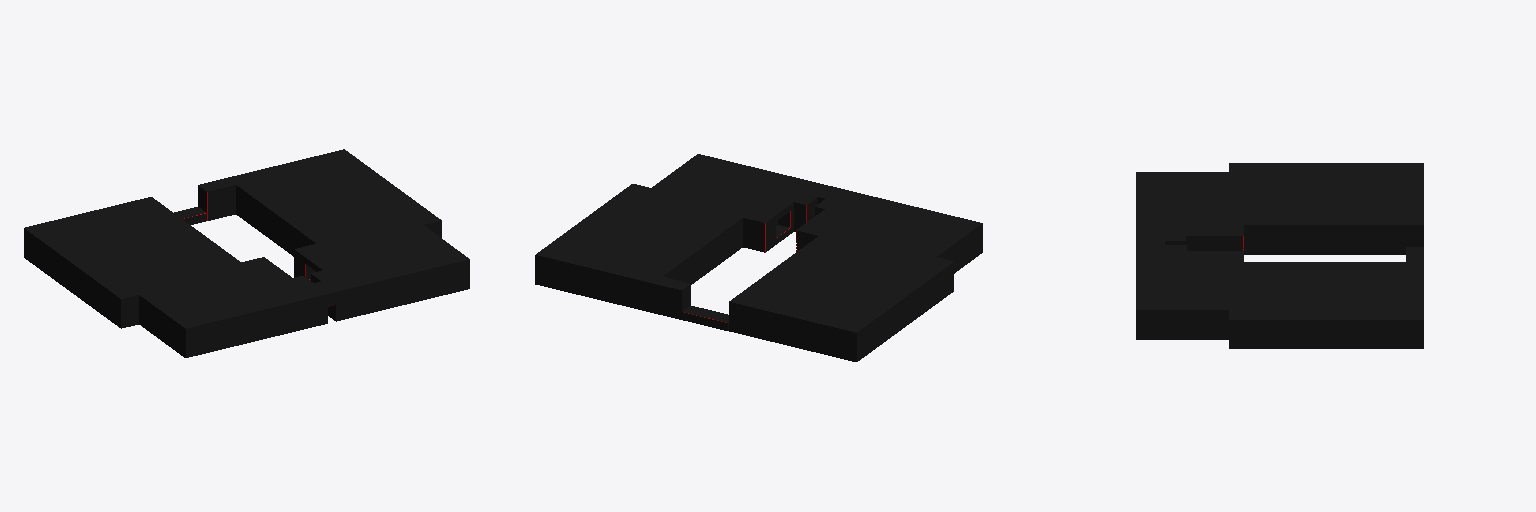
Rendered from wall.obj.
The picture shows the model from 3 angles: view 1: azimuth 30°, elevation 25°; view 2: azimuth 150°, elevation 25°; view 3: azimuth 270°, elevation 25°; orthographic projection.
Parts seen in each view (by area): view 1: Cube.007_Cube.006; view 2: Cube.007_Cube.006; view 3: Cube.007_Cube.006.
Part boxes in pixels (x1,y1,x2,y2): Cube.007_Cube.006: (24,149,469,357); Cube.007_Cube.006: (535,154,982,361); Cube.007_Cube.006: (1136,163,1423,348).
Bounding box in the file's own units: 518 × 45.79 × 403.